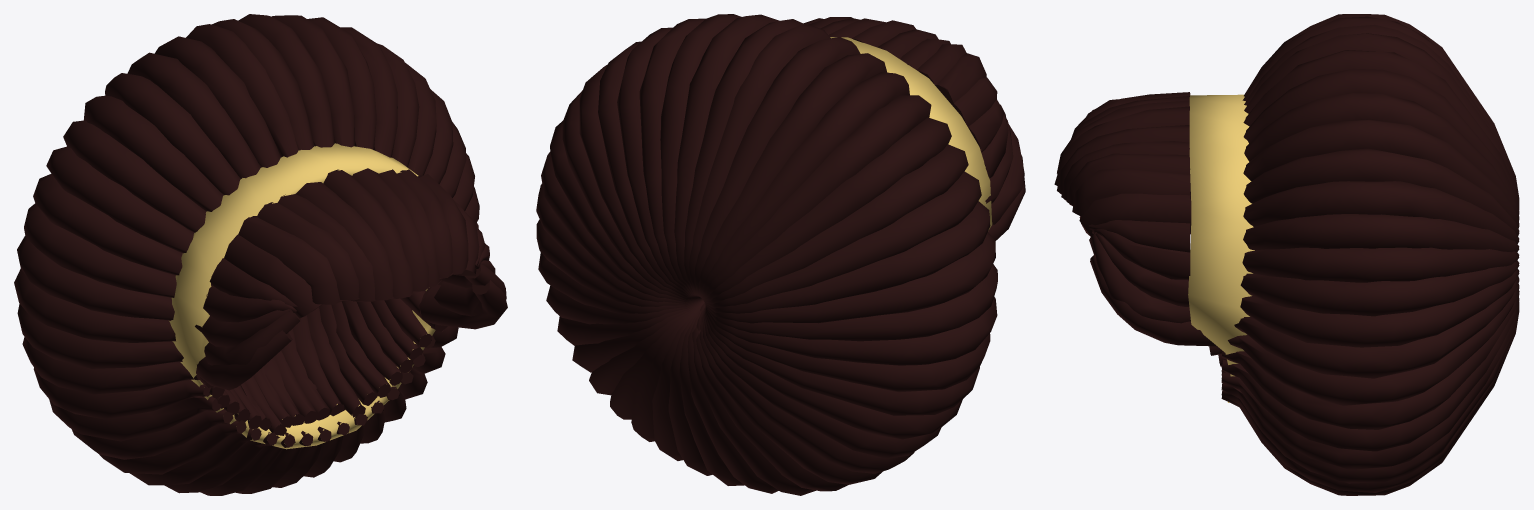
Rendered from hair-9-e5e5a549.glb.
The picture shows the model from 3 angles, left to right: view 1: azimuth 30°, elevation 25°; view 2: azimuth 150°, elevation 25°; view 3: azimuth 270°, elevation 25°; orthographic projection. The views are drawn at different scales.
Visible parts, largest first — view 1: hair_9.001; view 2: hair_9.001; view 3: hair_9.001.
Part boxes in pixels (x1,y1,x2,y2): hair_9.001: (14, 14, 507, 495); hair_9.001: (536, 14, 1025, 495); hair_9.001: (1054, 14, 1519, 495).
Bounding box in the file's own units: 2.76 × 2.77 × 2.66.
